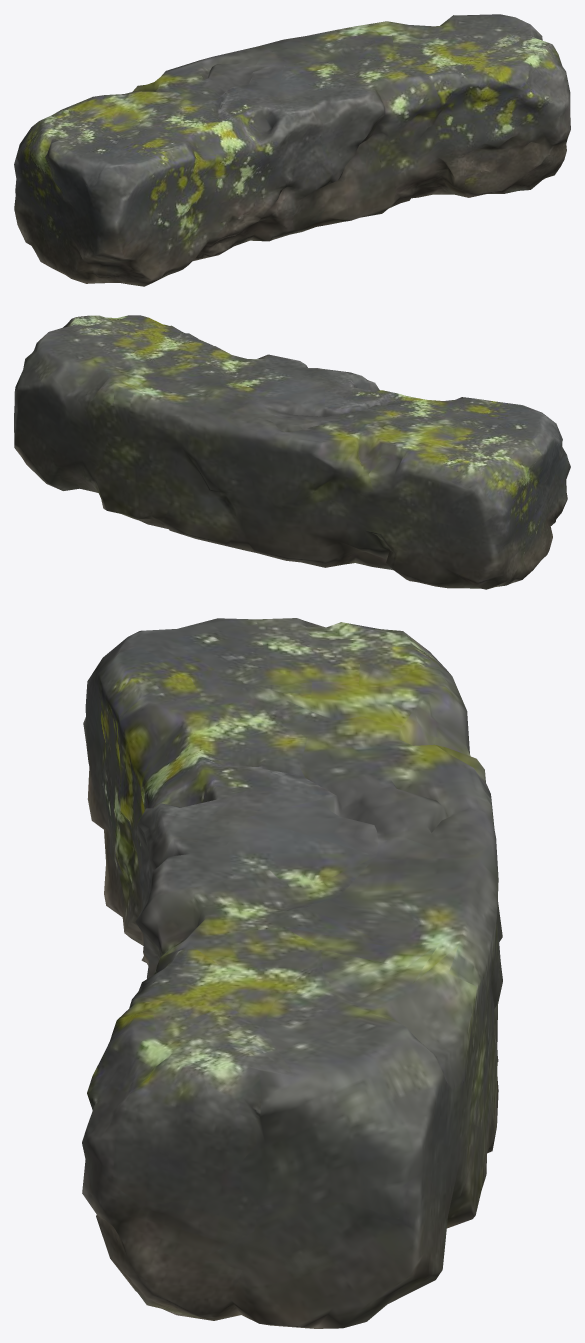
File: sarsen_lintel.glb
3 views of the same model, one above another, from view 1: azimuth 30°, elevation 25°; view 2: azimuth 150°, elevation 25°; view 3: azimuth 270°, elevation 25° (orthographic). The views are drawn at different scales.
Visible parts, largest first — view 1: tripo_node_58163943-a512-4eb5-b671-49b5ce6f902c; view 2: tripo_node_58163943-a512-4eb5-b671-49b5ce6f902c; view 3: tripo_node_58163943-a512-4eb5-b671-49b5ce6f902c.
Part boxes in pixels (bbox=[...]): tripo_node_58163943-a512-4eb5-b671-49b5ce6f902c: bbox=[14, 14, 570, 286]; tripo_node_58163943-a512-4eb5-b671-49b5ce6f902c: bbox=[14, 315, 570, 589]; tripo_node_58163943-a512-4eb5-b671-49b5ce6f902c: bbox=[82, 618, 502, 1328].
Size of the model in its own units: 0.9799 by 0.2443 by 0.3616.
1 material, 1 textured.
